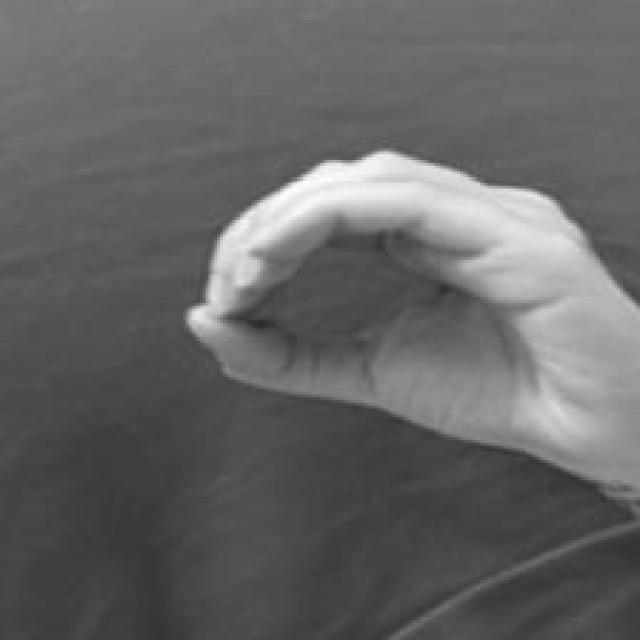O: (183, 132, 640, 492)
